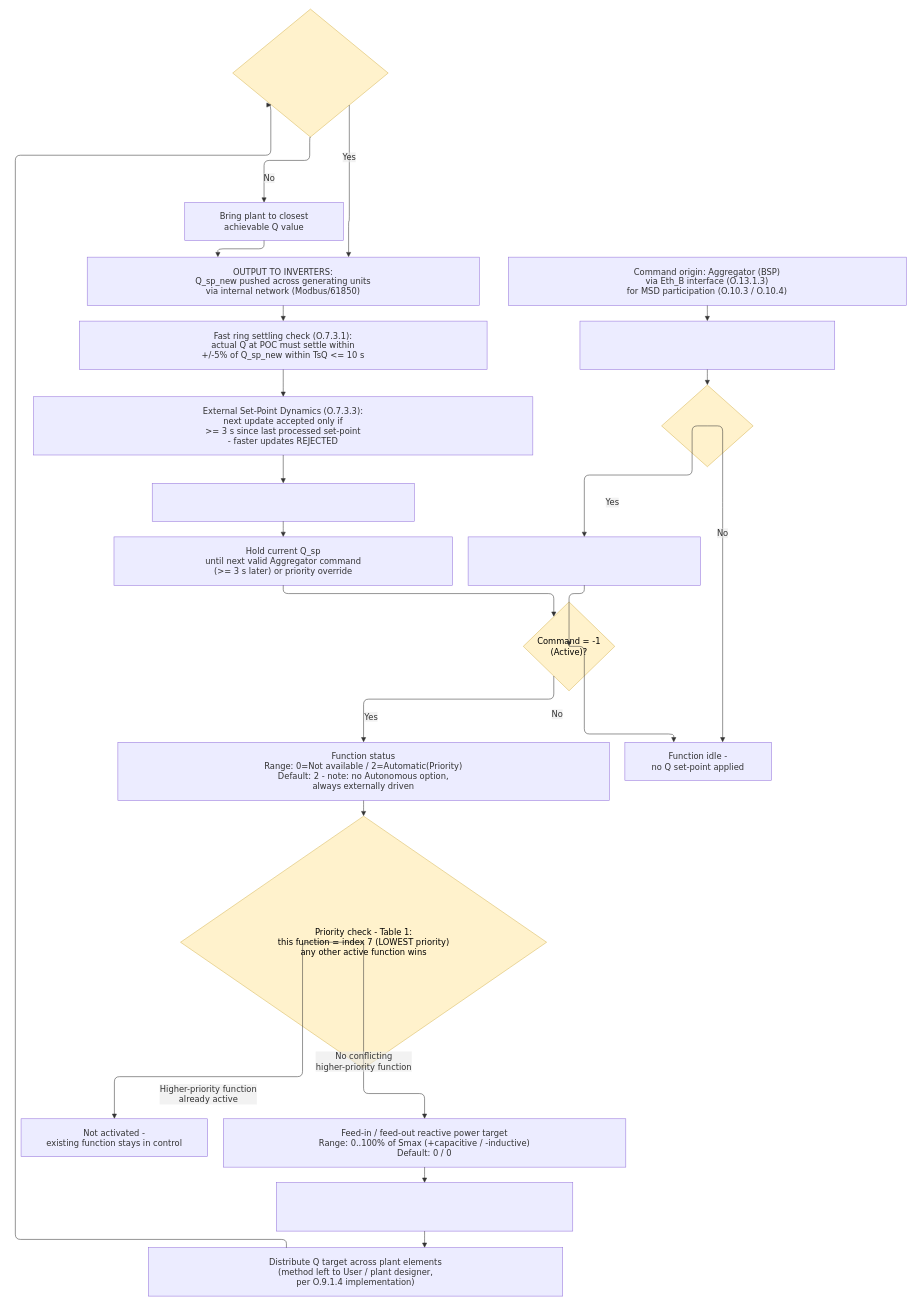
Some shapes in this 915 by 1305 pixel diagram are drawn without their labels. Here are the shapes that lost their labels. From the top down, the centre of each, then its label:
(x=310, y=73): Can plant capability reach requested Q?
(x=707, y=345): Operating status Range: -1=Operating / -5=Not-Operating Default: -5
(x=707, y=426): Status = -1 (Operating)?
(x=283, y=502): Q measurement fed back to Aggregator (instantaneous Q, per O.8.5)
(x=584, y=560): Activation command Range: -5=Inactive / -1=Active Default: -5
(x=424, y=1206): Trigger equation: NONE - direct target tracking, no formula (same as O.9.1.4)
